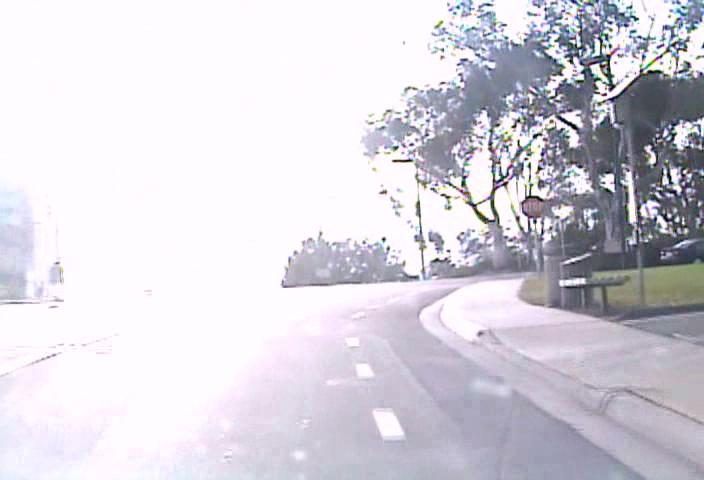stop: (521, 195, 544, 218)
